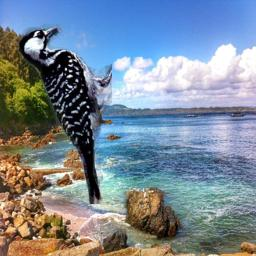Woodpecker: (17, 22, 112, 204)
